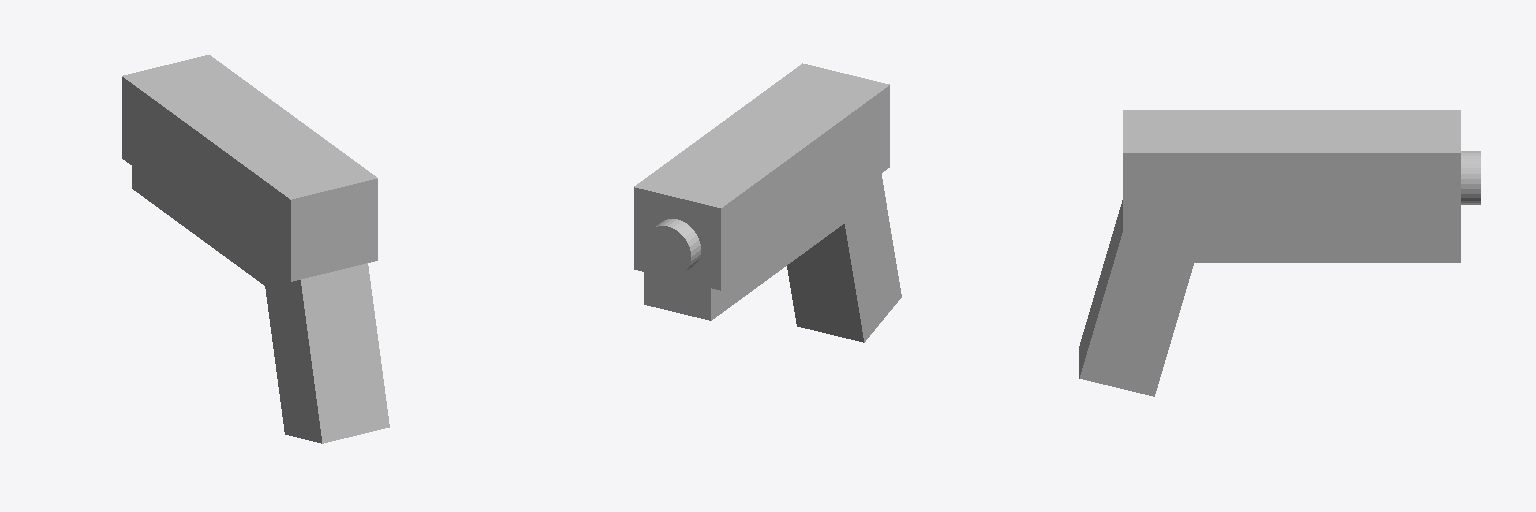
File: pistol.obj
3 renders of one model, left to right at view 1: azimuth 30°, elevation 25°; view 2: azimuth 150°, elevation 25°; view 3: azimuth 270°, elevation 25°, orthographic.
Visible parts, largest first — view 1: Cube.003, Cube.001, Cube.002; view 2: Cube.003, Cube.001, Cube.002, Cylinder; view 3: Cube.003, Cube.001, Cube.002, Cylinder.
Part boxes in pixels (x1,y1,x2,y2): Cube.003: (122, 55, 377, 281); Cube.001: (263, 263, 389, 443); Cube.002: (132, 166, 296, 306); Cube.003: (634, 63, 889, 290); Cube.001: (787, 174, 901, 342); Cube.002: (644, 178, 876, 320); Cylinder: (644, 219, 700, 276); Cube.003: (1123, 110, 1460, 234); Cube.001: (1079, 200, 1201, 396); Cube.002: (1131, 235, 1460, 262); Cylinder: (1461, 151, 1480, 204).
Size of the model in its own units: 0.078 by 0.2115 by 0.3089.